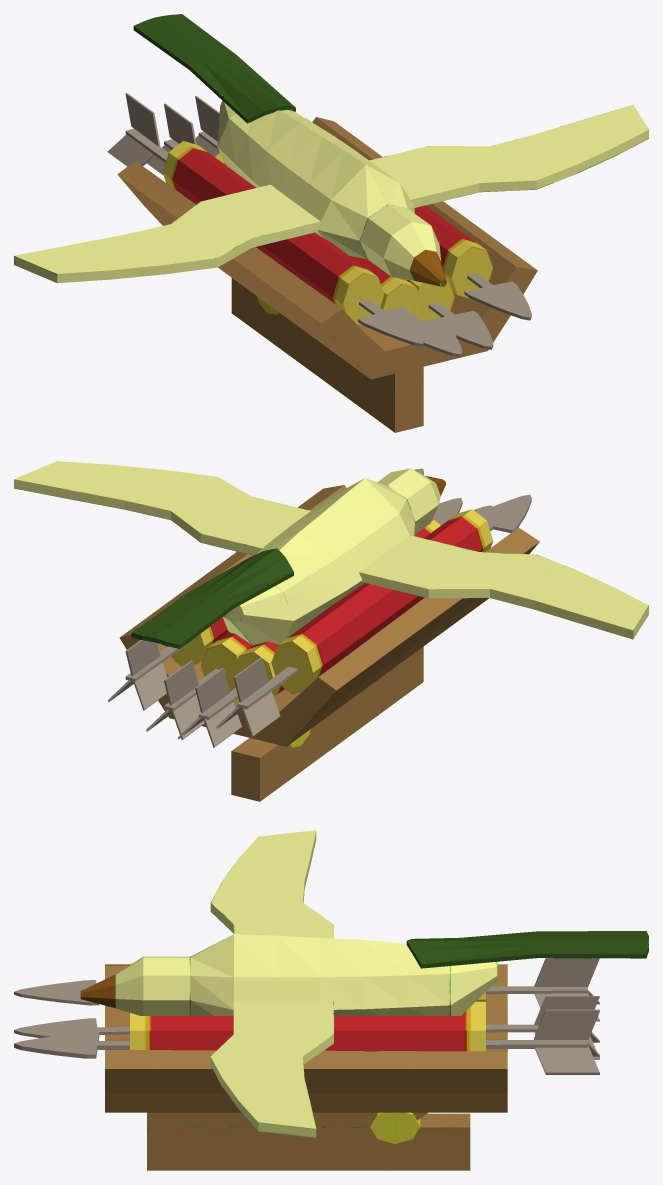
File: darkness_tower_rocket2.FBX
3 views of the same model, one above another, from view 1: azimuth 30°, elevation 25°; view 2: azimuth 150°, elevation 25°; view 3: azimuth 270°, elevation 25° (orthographic).
Visible parts, largest first — view 1: Object010, Cylinder023; view 2: Object010, Cylinder023; view 3: Object010, Cylinder023.
Part boxes in pixels (x1,y1,x2,y2): Object010: [14, 14, 648, 357]; Cylinder023: [117, 117, 537, 432]; Object010: [14, 461, 648, 747]; Cylinder023: [119, 485, 539, 801]; Object010: [14, 830, 648, 1137]; Cylinder023: [105, 964, 507, 1170].
Bounding box in the file's own units: 10.51 × 3.77 × 9.44.
